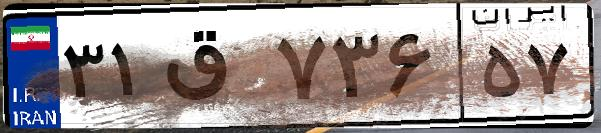1: (110, 28, 158, 98)
3: (330, 28, 385, 110), (57, 26, 110, 100)
5: (475, 38, 525, 113)
6: (385, 28, 445, 110)
7: (270, 28, 330, 110), (525, 38, 570, 115)
ق: (158, 20, 270, 120)
